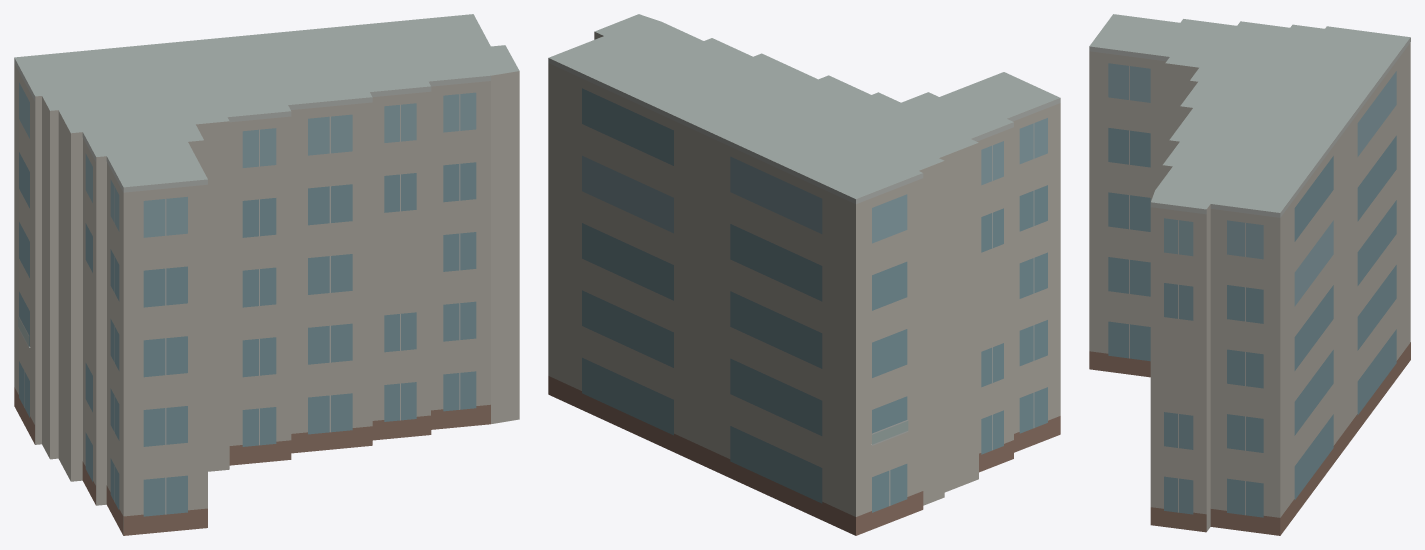
The model's file is survey-upis-32616693.glb.
3 views of the same model, side by side, from view 1: azimuth 30°, elevation 25°; view 2: azimuth 150°, elevation 25°; view 3: azimuth 270°, elevation 25° (orthographic). The views are drawn at different scales.
Visible parts, largest first — view 1: survey-upis-32616693.tmp; view 2: survey-upis-32616693.tmp; view 3: survey-upis-32616693.tmp.
Boxes of the visible parts, box(x1,y1,x2,y2) form: survey-upis-32616693.tmp: box(14, 14, 519, 535); survey-upis-32616693.tmp: box(548, 14, 1060, 535); survey-upis-32616693.tmp: box(1089, 14, 1410, 535).
Bounding box in the file's own units: 21.29 × 16.1 × 14.54.
